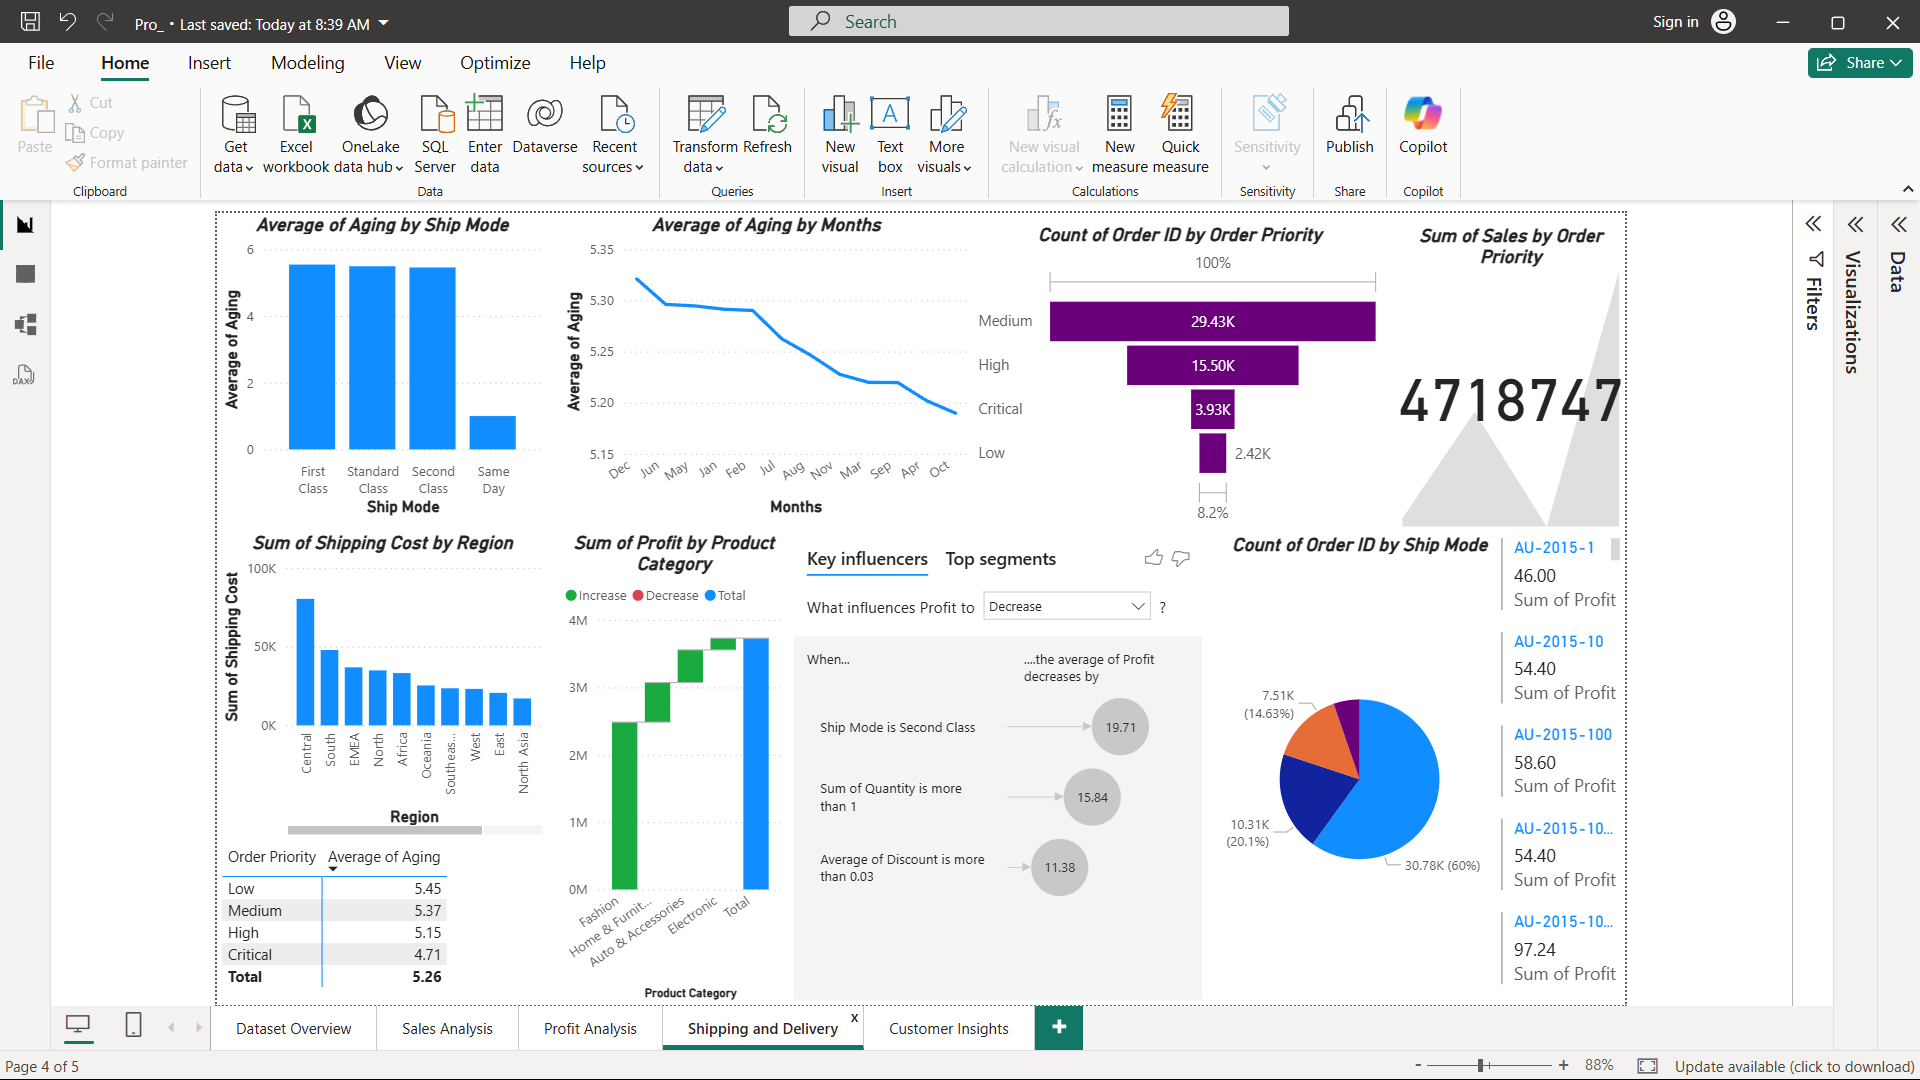

What the dashboard file says about the page in this screenshot:
{"tool":"powerbi","page":{"name":"Shipping and Delivery","canvas":[1280,720],"ordinal":3},"visuals":[{"type":"columnChart","fields":{"Category":["Sheet1.Ship Mode"],"Y":["Avg(Sheet1.Aging)"]},"box":[0,0,300.5,279.9],"z":0},{"type":"columnChart","fields":{"Category":["Sheet1.Region"],"Y":["Sum(Sheet1.Shipping Cost)"]},"box":[0,290,301,280],"z":1000},{"type":"pieChart","fields":{"Category":["Sheet1.Ship Mode"],"Y":["CountNonNull(Sheet1.Order ID)"]},"box":[901.2,290.7,275.6,429.1],"z":2000},{"type":"lineChart","fields":{"Category":["Sheet1.Months"],"Y":["Avg(Sheet1.Aging)"]},"box":[311.5,0,376,279.9],"z":3000},{"type":"pivotTable","fields":{"Rows":["Sheet1.Order Priority"],"Values":["Avg(Sheet1.Aging)"]},"box":[0,569.8,301.2,150],"z":4000},{"type":"keyDriversVisual","fields":{"Target":["Sheet1.Profit"],"ExplainBy":["Avg(Sheet1.Discount)","Sheet1.Region","Sheet1.Ship Mode","Sheet1.Segment","Sum(Sheet1.Quantity)","Sum(Sheet1.Aging)"]},"box":[519.8,289.5,381.4,430.2],"z":5000},{"type":"waterfallChart","fields":{"Category":["Sheet1.Product Category"],"Y":["Sum(Sheet1.Profit)"]},"box":[311.6,289.5,208.1,430.2],"z":6000},{"type":"funnel","fields":{"Category":["Sheet1.Order Priority"],"Y":["CountNonNull(Sheet1.Order ID)"]},"box":[687.5,9.6,376,279.9],"z":7000},{"type":"kpi","fields":{"Indicator":["Sum(Sheet1.Sales)"],"TrendLine":["Sheet1.Order Priority"]},"box":[1073,10,207,280],"z":8000},{"type":"multiRowCard","fields":{"Values":["Sheet1.Order ID","Sum(Sheet1.Profit)"]},"box":[1162.8,290.7,117.4,429.1],"z":9000}]}

Visuals, with their boxes on the page's 1280x720 design canvas (x1, y1, x2, y2). These are canvas units, not pixel positions in the 1920x1080 screenshot, which may show the page scaled, cropped or inside an application window:
columnChart - Sheet1.Ship Mode x Avg(Sheet1.Aging): x1=0, y1=0, x2=300, y2=280
columnChart - Sheet1.Region x Sum(Sheet1.Shipping Cost): x1=0, y1=290, x2=301, y2=570
pieChart - Sheet1.Ship Mode x CountNonNull(Sheet1.Order ID): x1=901, y1=291, x2=1177, y2=720
lineChart - Sheet1.Months x Avg(Sheet1.Aging): x1=312, y1=0, x2=688, y2=280
pivotTable - Sheet1.Order Priority x Avg(Sheet1.Aging): x1=0, y1=570, x2=301, y2=720
keyDriversVisual - Sheet1.Profit x Avg(Sheet1.Discount): x1=520, y1=290, x2=901, y2=720
waterfallChart - Sheet1.Product Category x Sum(Sheet1.Profit): x1=312, y1=290, x2=520, y2=720
funnel - Sheet1.Order Priority x CountNonNull(Sheet1.Order ID): x1=688, y1=10, x2=1064, y2=290
kpi - Sum(Sheet1.Sales) x Sheet1.Order Priority: x1=1073, y1=10, x2=1280, y2=290
multiRowCard - Sheet1.Order ID x Sum(Sheet1.Profit): x1=1163, y1=291, x2=1280, y2=720
